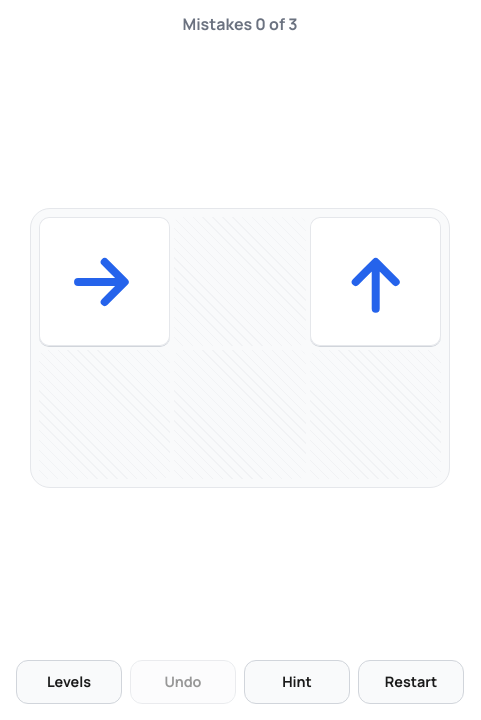
Test: PlayScreen: tapping › bumps a blocked arrow: counts a mistake and plays one shake
This screenshot has width=481, height=720.
What coordinates should you click on to do the following:
click the button named "Arrow pointing right"
I would click on:
 (105, 282)
Its box is [39,217,170,346].
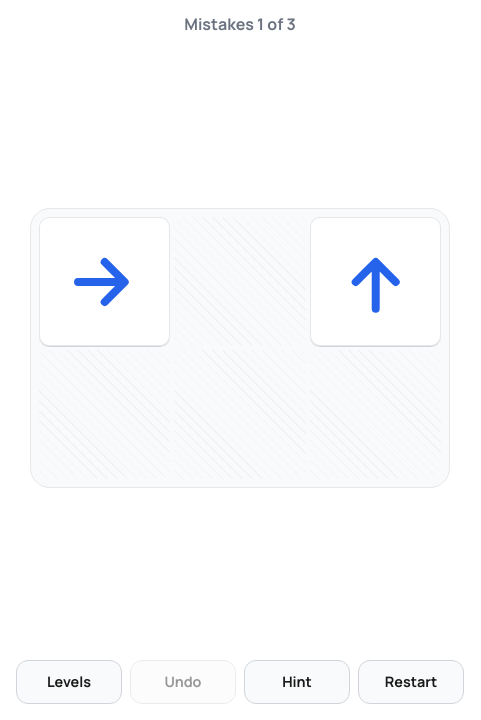
Expected: the message reads "Mistakes 1 of 3", [184,13,296,35]
